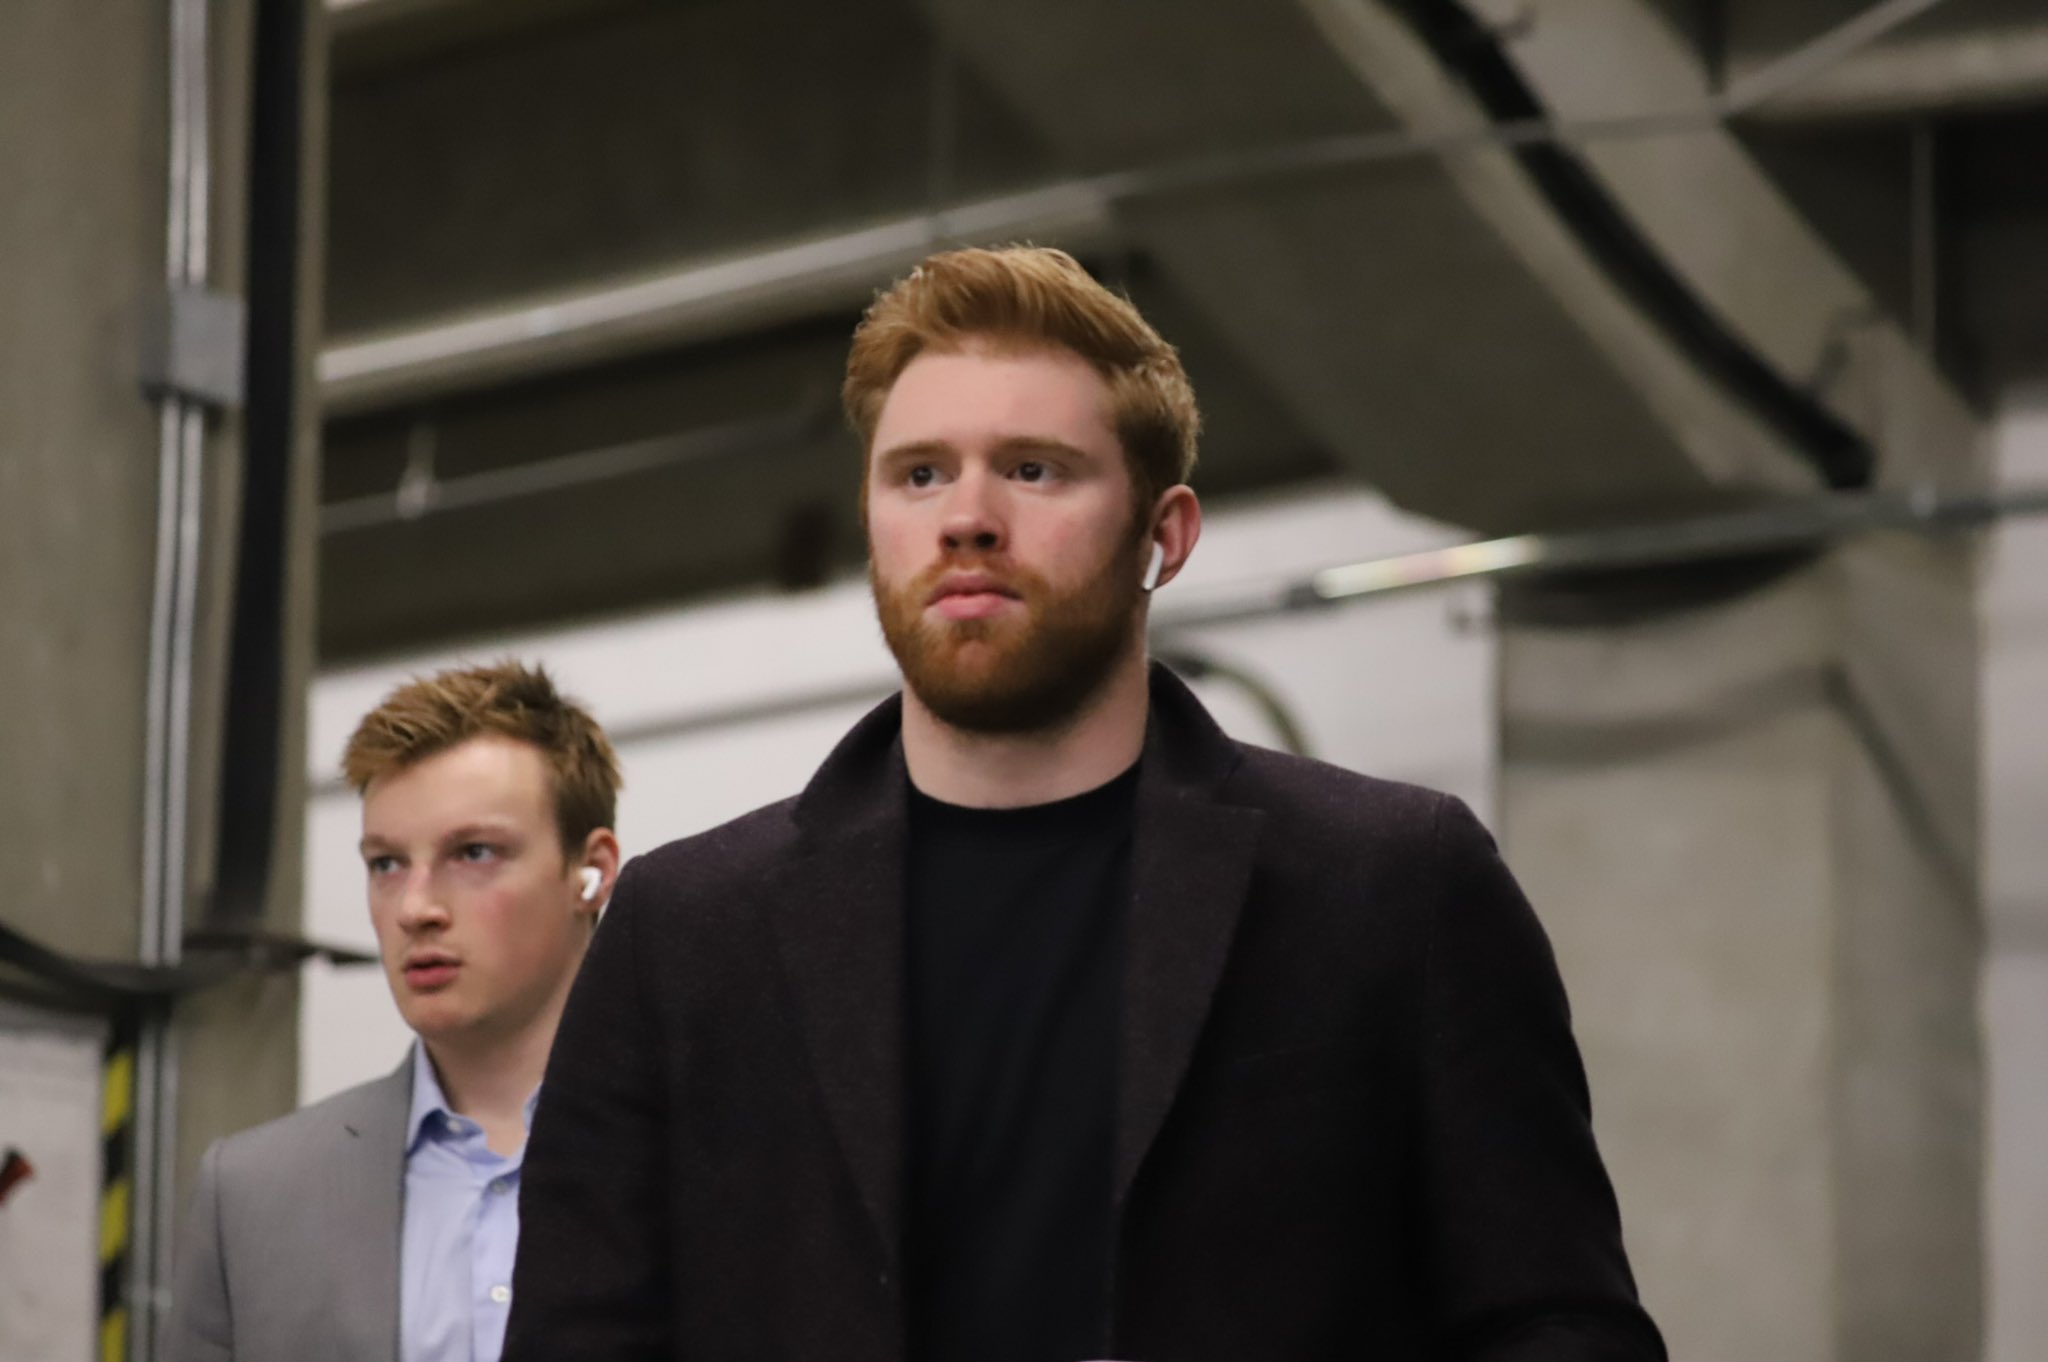earphone: (1139, 485, 1202, 593), (571, 824, 621, 914)
